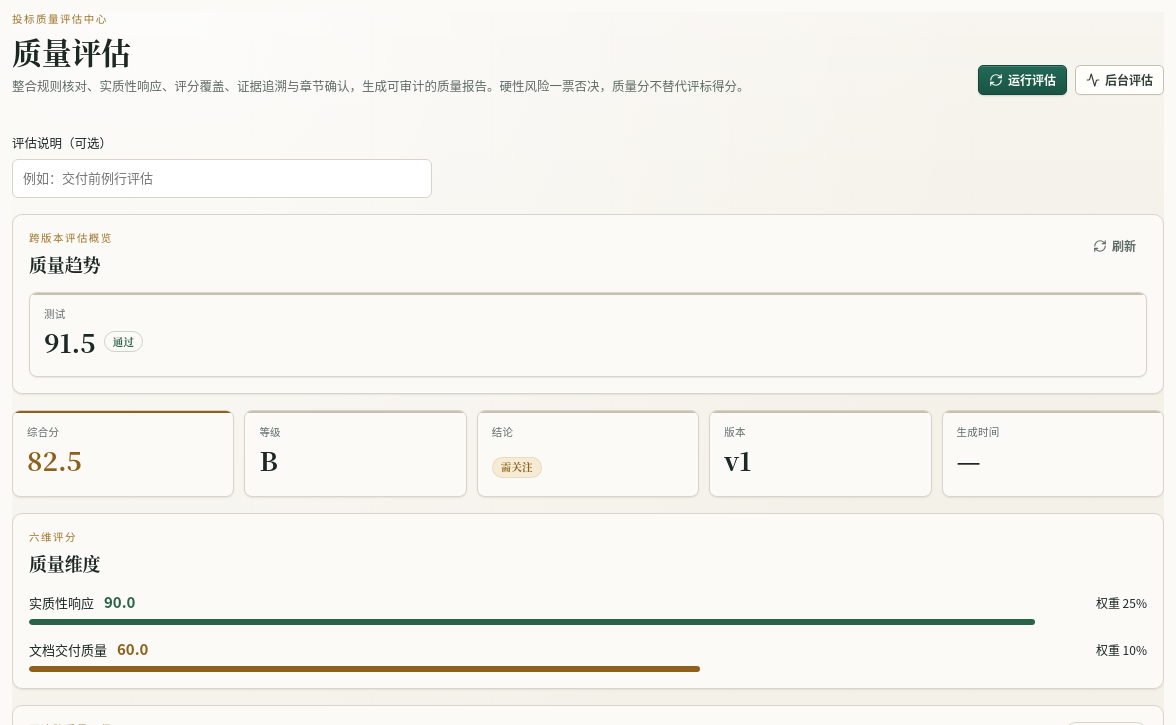
Test: QualityTab › 运行评估后即使响应缺 findings，也采用重新拉取的最新报告展示问题
The image size is (1176, 725).
Expected: the text "实质性响应" is shown, [29, 593, 94, 614]
What coordinates should you click on to do the following:
click the button "运行评估"
I would click on:
 (1022, 80)
Its box is [978, 65, 1067, 95].
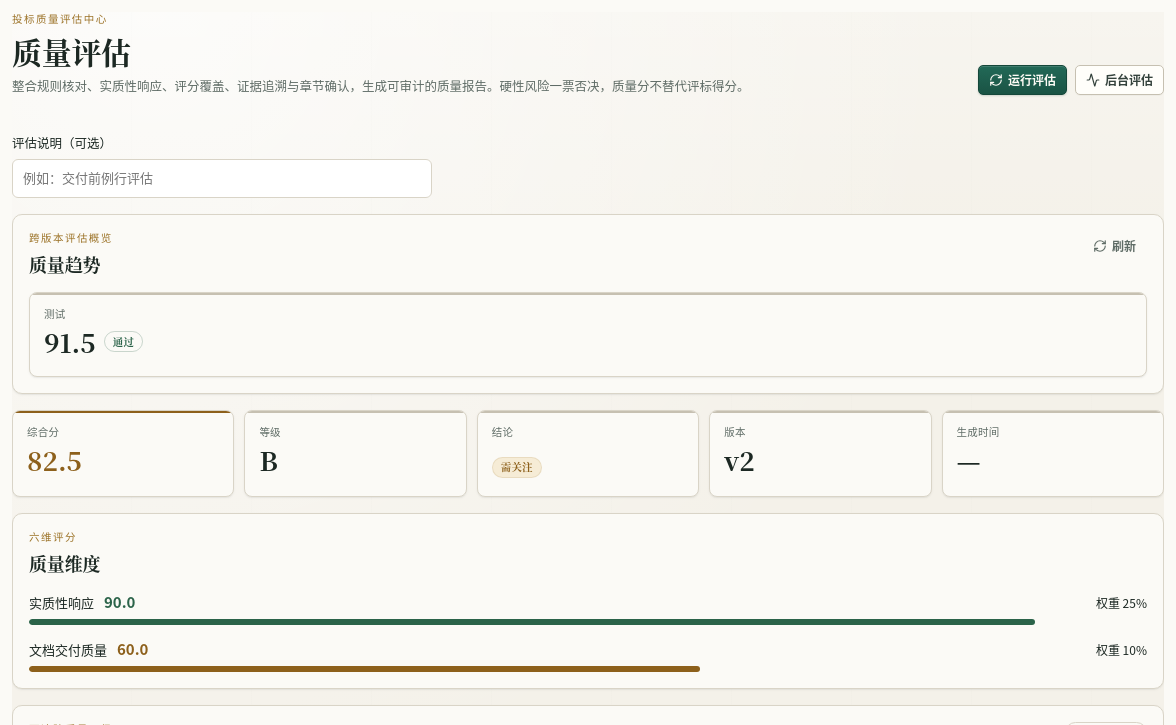
Expected: the text "v2" is shown, [724, 441, 755, 478]
